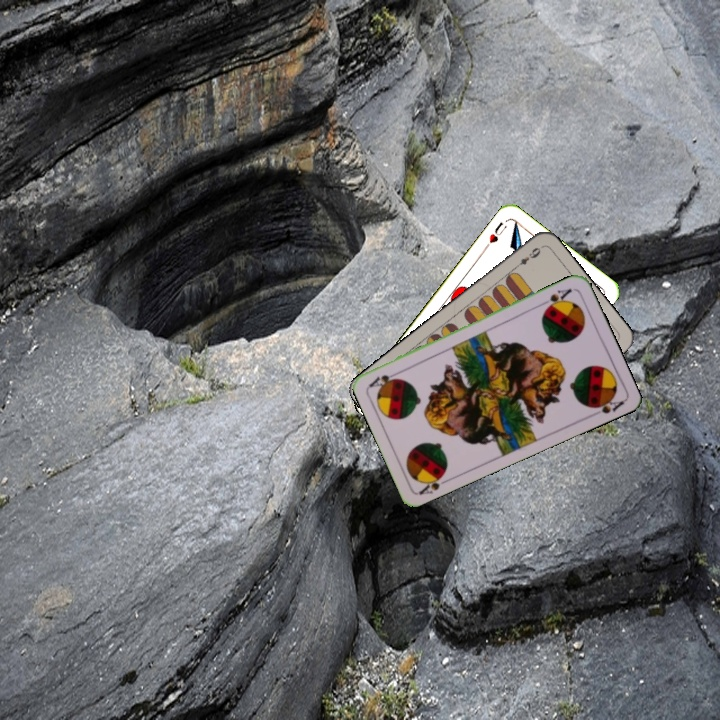E9: (510, 243, 543, 272)
HU: (481, 218, 509, 252)
SA: (415, 467, 454, 497), (537, 285, 575, 312)
